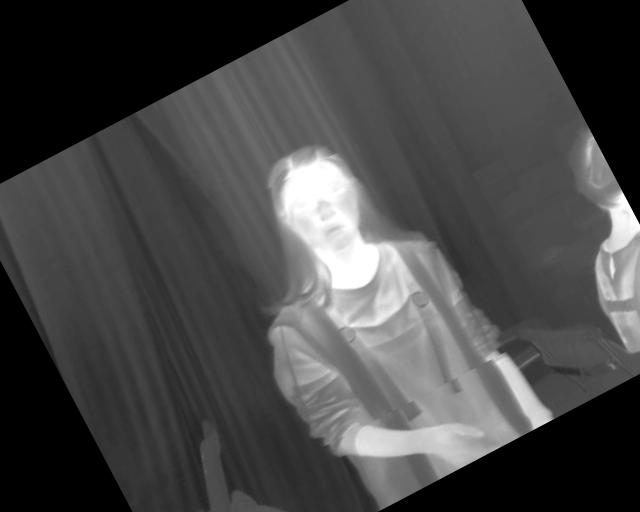face: (254, 131, 382, 269)
